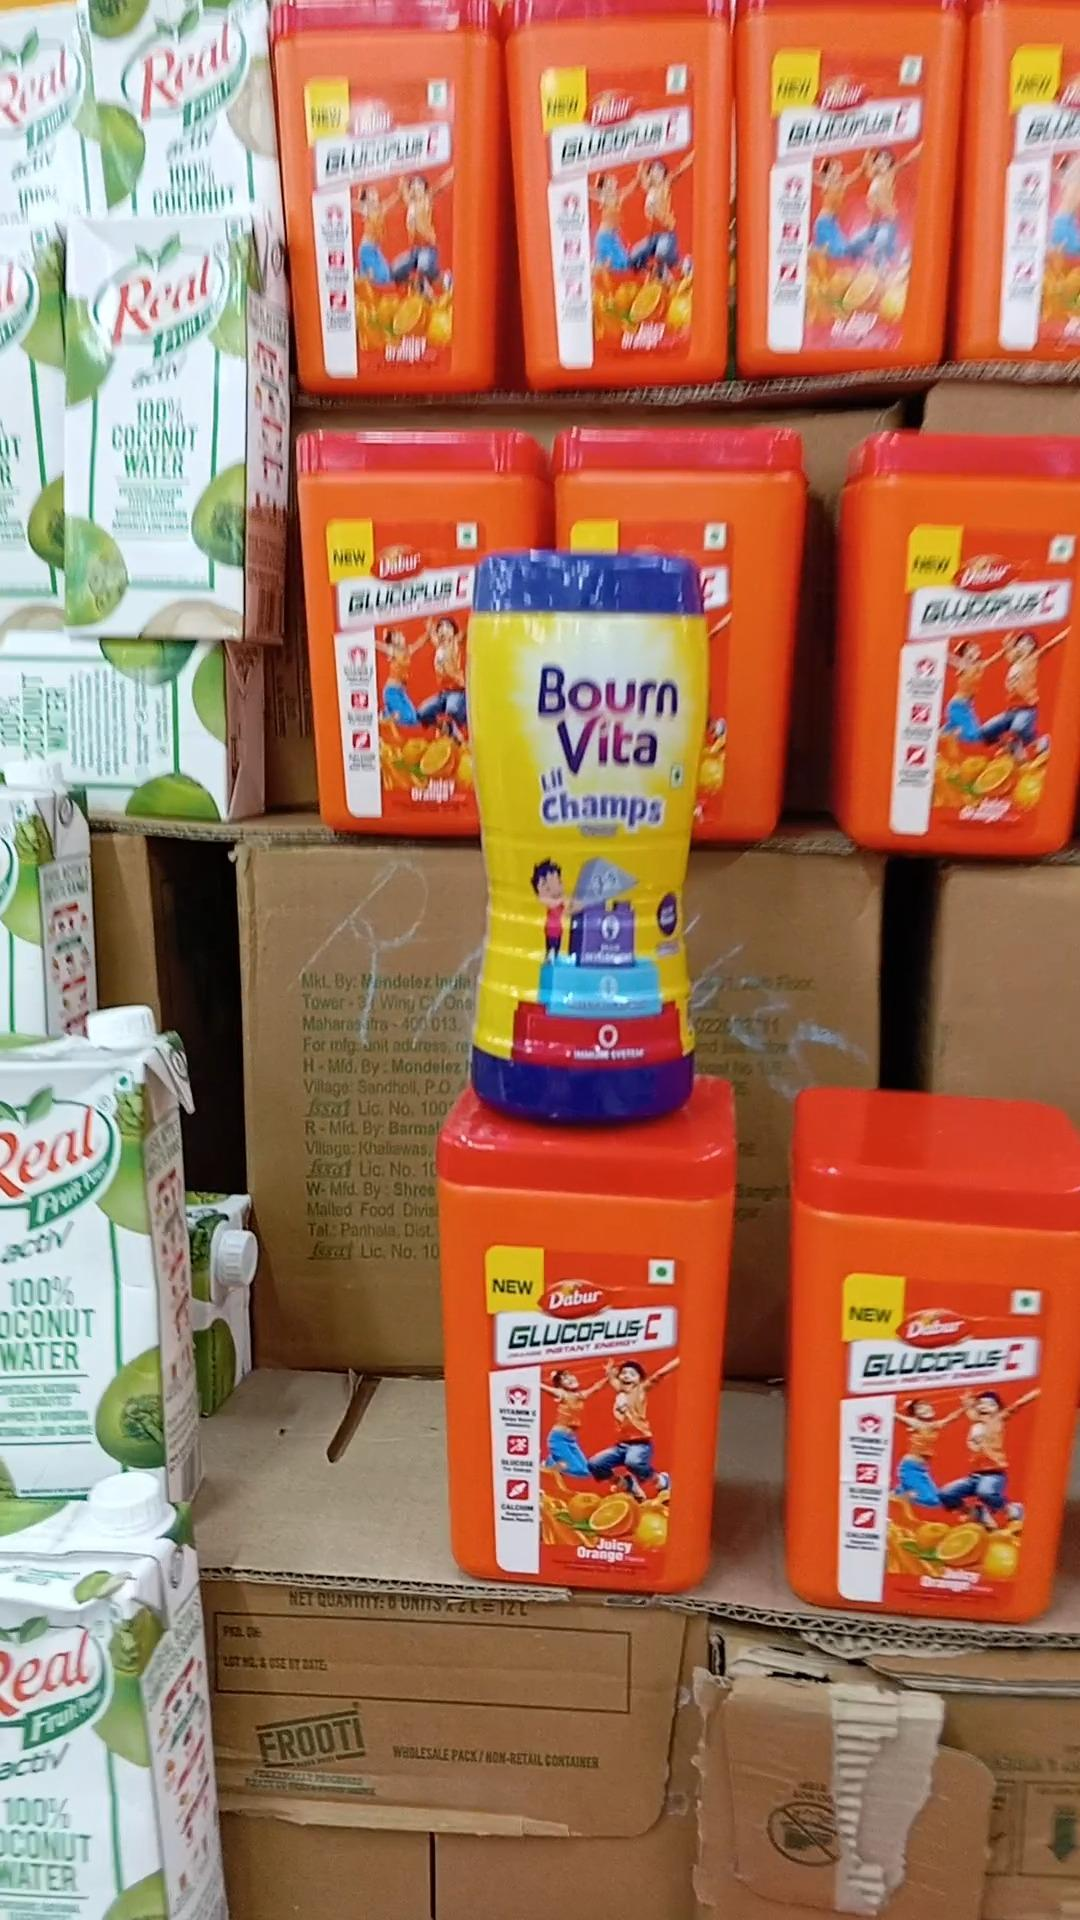BOURN_VITA_CHAMPS_500_G_JAR: (464, 547, 704, 1138)
